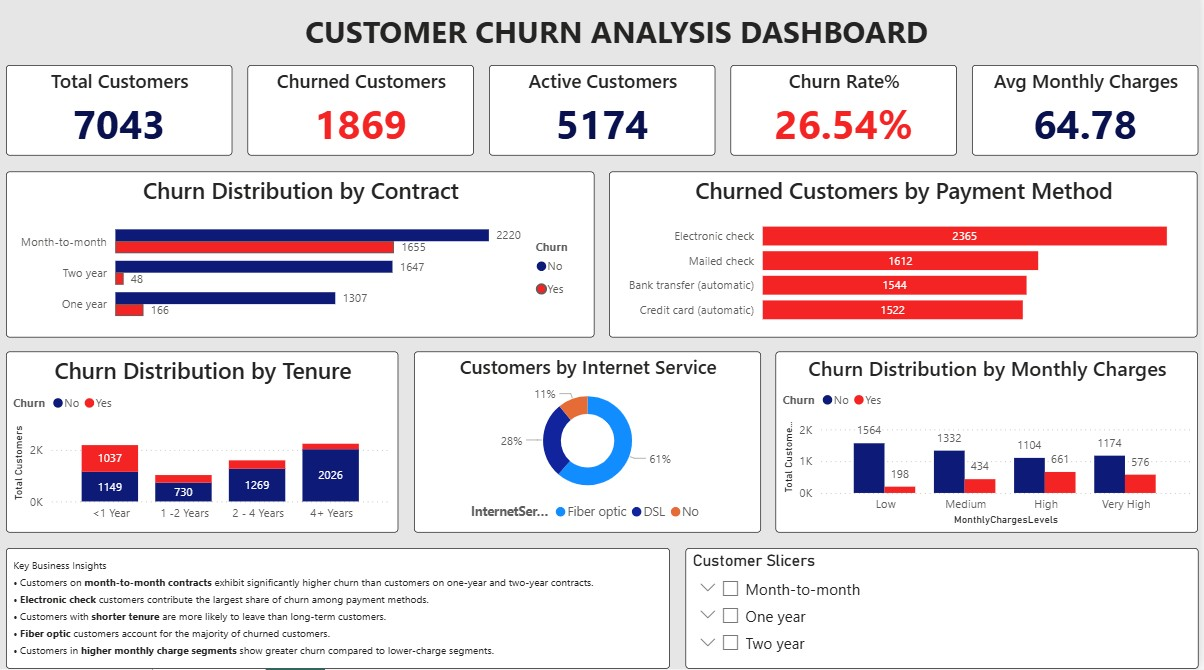

What the dashboard file says about the page in this screenshot:
{"tool":"powerbi","page":{"name":"Page 1","canvas":[1280,720],"ordinal":0},"visuals":[{"type":"card","title":"Total Customers","fields":{"Values":["cleaned_churn.Total Customers"]},"box":[16,80,240,96],"z":0},{"type":"card","title":"Churned Customers","fields":{"Values":["cleaned_churn.Churned Customers"]},"box":[272,80,240,96],"z":1000},{"type":"card","title":"Active Customers","fields":{"Values":["cleaned_churn.Active Customers"]},"box":[528,80,240,96],"z":2000},{"type":"card","title":"Churn Rate%","fields":{"Values":["cleaned_churn.Churn Rate %"]},"box":[784,80,240,96],"z":3000},{"type":"card","title":"Avg Monthly Charges","fields":{"Values":["cleaned_churn.Avg Monthly Charges"]},"box":[1040,80,240,96],"z":4000},{"type":"clusteredBarChart","title":"Churn Distribution by Contract","fields":{"Category":["cleaned_churn.Contract"],"Y":["cleaned_churn.Total Customers"],"Series":["cleaned_churn.Churn"]},"box":[16,192,624,176],"z":5000},{"type":"barChart","title":"Churned Customers by Payment Method","fields":{"Category":["cleaned_churn.PaymentMethod"],"Y":["cleaned_churn.Total Customers","cleaned_churn.Churn Rate %"]},"box":[656,192,624,176],"z":6000},{"type":"columnChart","title":"Churn Distribution by Tenure","fields":{"Category":["cleaned_churn.tenure_groups"],"Y":["cleaned_churn.Total Customers"],"Series":["cleaned_churn.Churn"]},"box":[16,384,416,192],"z":7000},{"type":"donutChart","title":"Customers by Internet Service","fields":{"Category":["cleaned_churn.InternetService"],"Y":["cleaned_churn.Churn Rate %"]},"box":[448,384,368,192],"z":8000},{"type":"clusteredColumnChart","title":"Churn Distribution by Monthly Charges","fields":{"Category":["cleaned_churn.MonthlyChargesLevels"],"Y":["cleaned_churn.Total Customers"],"Series":["cleaned_churn.Churn"]},"box":[832,384,448,192],"z":9000},{"type":"textbox","box":[16,592,704,128],"z":10000},{"type":"slicer","title":"Customer Slicers","fields":{"Values":["cleaned_churn.Contract","cleaned_churn.gender","cleaned_churn.SeniorCitizen"]},"box":[736,592,544,128],"z":11000},{"type":"textbox","box":[96,16,1136,64],"z":12000}]}

Visuals, with their boxes in screenshot pixels (x1, y1, x2, y2), scaled from the page's 1280x720 canvas onto the 1204x670 screenshot:
"Total Customers" card: <region>15, 74, 241, 164</region>
"Churned Customers" card: <region>256, 74, 482, 164</region>
"Active Customers" card: <region>497, 74, 722, 164</region>
"Churn Rate%" card: <region>737, 74, 963, 164</region>
"Avg Monthly Charges" card: <region>978, 74, 1203, 164</region>
"Churn Distribution by Contract" clusteredBarChart: <region>15, 179, 602, 342</region>
"Churned Customers by Payment Method" barChart: <region>617, 179, 1203, 342</region>
"Churn Distribution by Tenure" columnChart: <region>15, 357, 406, 536</region>
"Customers by Internet Service" donutChart: <region>421, 357, 768, 536</region>
"Churn Distribution by Monthly Charges" clusteredColumnChart: <region>783, 357, 1203, 536</region>
textbox: <region>15, 551, 677, 669</region>
"Customer Slicers" slicer: <region>692, 551, 1203, 669</region>
textbox: <region>90, 15, 1159, 74</region>
